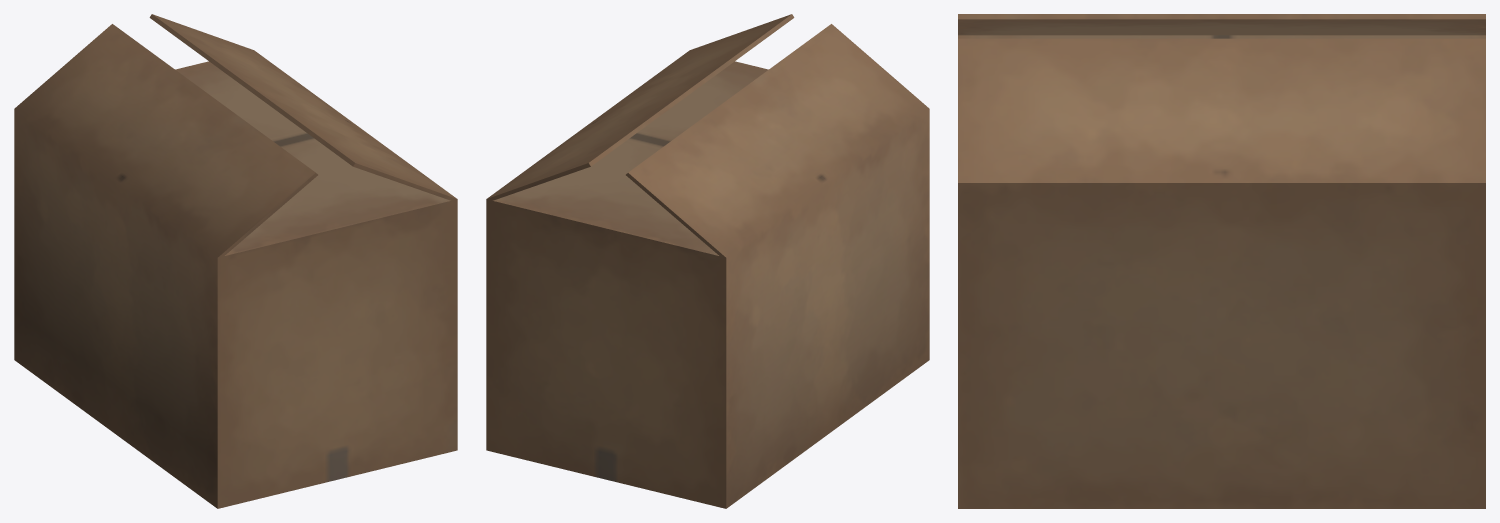
The model's file is SM_Props_Garbage_04.glb.
The picture shows the model from 3 angles, left to right: view 1: azimuth 30°, elevation 25°; view 2: azimuth 150°, elevation 25°; view 3: azimuth 270°, elevation 25°; orthographic projection. The views are drawn at different scales.
Visible parts, largest first — view 1: SM_Props_Garbage_04; view 2: SM_Props_Garbage_04; view 3: SM_Props_Garbage_04.
Part boxes in pixels (x1=…): SM_Props_Garbage_04: x1=14, y1=14, x2=457, y2=508; SM_Props_Garbage_04: x1=486, y1=14, x2=929, y2=508; SM_Props_Garbage_04: x1=958, y1=14, x2=1485, y2=508.
Bounding box in the file's own units: 0.2736 × 0.3403 × 0.4017.
Materials: 1 (1 with a texture image).
